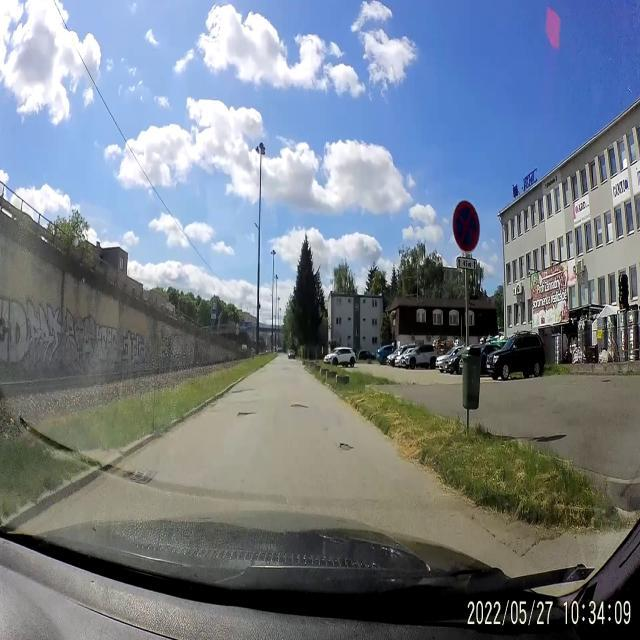Manhole: (122, 466, 160, 486)
Pothole: (288, 399, 309, 413), (237, 409, 257, 422), (338, 440, 355, 454), (230, 388, 256, 394)
